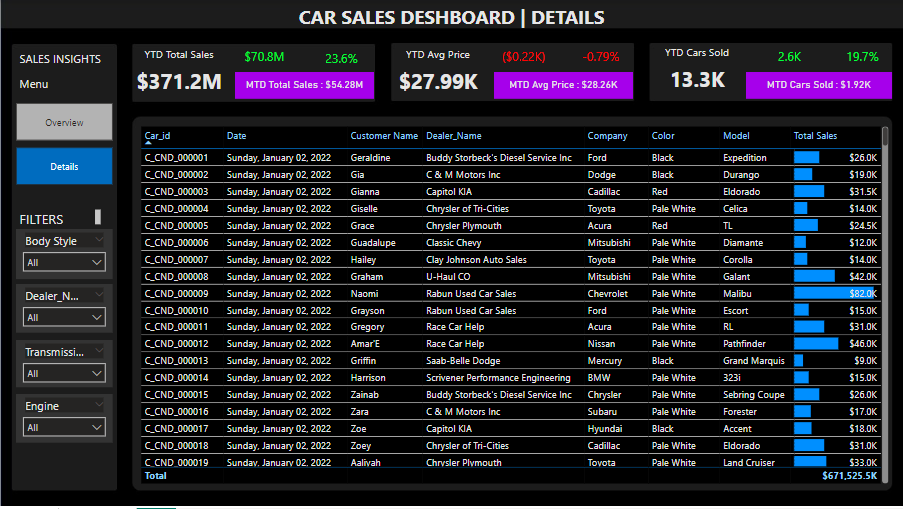

This screenshot's page, from the dashboard's own definition file:
{"tool":"powerbi","page":{"name":"Details","canvas":[1280,720],"ordinal":1},"visuals":[{"type":"card","title":"YTD Total Sales","fields":{"Values":["car_data.YTD Total Sales"]},"box":[174.3,66.6,158.7,76.5],"z":0},{"type":"card","title":"YTD Total Sales","fields":{"Values":["car_data.Cars Sales Diff"]},"box":[1067.2,60.9,103.5,41.1],"z":1000},{"type":"card","title":"YTD Total Sales","fields":{"Values":["car_data.YOY Sales Growth"]},"box":[432.3,63.8,103.5,41.1],"z":2000},{"type":"card","fields":{"Values":["car_data.MTD KPI"]},"box":[333.1,102,197,38.3],"z":3000},{"type":"card","title":"YTD Avg Price","fields":{"Values":["car_data.YTD Avg Price"]},"box":[541.4,66.6,158.7,76.5],"z":4000},{"type":"card","title":"YTD Total Sales","fields":{"Values":["car_data.Avg Price Diff"]},"box":[690.2,60.9,103.5,41.1],"z":5000},{"type":"card","title":"YTD Total Sales","fields":{"Values":["car_data.YoY Avg Price Growth"]},"box":[799.4,60.9,103.5,41.1],"z":6000},{"type":"card","fields":{"Values":["car_data.MTD Avg Price KPI"]},"box":[700.2,102,197,38.3],"z":7000},{"type":"card","title":"YTD Cars Sold","fields":{"Values":["car_data.YTD Cars Sold"]},"box":[908.5,63.8,158.7,76.5],"z":8000},{"type":"card","title":"YTD Total Sales","fields":{"Values":["car_data.Sales Difference"]},"box":[323.1,60.9,103.5,41.1],"z":9000},{"type":"card","title":"YTD Total Sales","fields":{"Values":["car_data.YoY Car Sold Growth"]},"box":[1170.7,60.9,103.5,41.1],"z":10000},{"type":"card","fields":{"Values":["car_data.MTD Cars Sold KPI"]},"box":[1057.3,102,206.9,38.3],"z":11000},{"type":"textbox","box":[0,0,1279.8,49.6],"z":13000},{"type":"slicer","fields":{"Values":["car_data.Body Style"]},"box":[22.7,324.6,137.5,70.9],"z":14000},{"type":"slicer","fields":{"Values":["car_data.Dealer_Name"]},"box":[22.7,402.5,137.5,69.4],"z":15000},{"type":"slicer","fields":{"Values":["car_data.Engine"]},"box":[22.7,558.4,137.5,69.4],"z":16000},{"type":"slicer","fields":{"Values":["car_data.Transmission"]},"box":[22.7,481.9,137.5,66.6],"z":17000},{"type":"textbox","box":[22.7,292,124.7,32.6],"z":18000},{"type":"tableEx","fields":{"Values":["car_data.Car_id","car_data.Date","car_data.Customer Name","car_data.Dealer_Name","car_data.Company","car_data.Color","car_data.Model","car_data.Total Sales"]},"box":[194.2,174.3,1070.1,515.9],"z":19000},{"type":"textbox","box":[22.7,66.6,137.5,35.4],"z":20000},{"type":"textbox","box":[22.7,102,109.1,38.3],"z":20001},{"type":"pageNavigator","box":[22.7,146,137.5,116.2],"z":20002}]}

Visuals, with their boxes in screenshot pixels (x1, y1, x2, y2), scaled from the page's 1280x720 canvas onto the 903x509 screenshot:
"YTD Total Sales" card: [123, 47, 235, 101]
"YTD Total Sales" card: [753, 43, 826, 72]
"YTD Total Sales" card: [305, 45, 378, 74]
card - car_data.MTD KPI: [235, 72, 374, 99]
"YTD Avg Price" card: [382, 47, 494, 101]
"YTD Total Sales" card: [487, 43, 560, 72]
"YTD Total Sales" card: [564, 43, 637, 72]
card - car_data.MTD Avg Price KPI: [494, 72, 633, 99]
"YTD Cars Sold" card: [641, 45, 753, 99]
"YTD Total Sales" card: [228, 43, 301, 72]
"YTD Total Sales" card: [826, 43, 899, 72]
card - car_data.MTD Cars Sold KPI: [746, 72, 892, 99]
textbox: [0, 0, 902, 35]
slicer - car_data.Body Style: [16, 229, 113, 280]
slicer - car_data.Dealer_Name: [16, 285, 113, 334]
slicer - car_data.Engine: [16, 395, 113, 444]
slicer - car_data.Transmission: [16, 341, 113, 388]
textbox: [16, 206, 104, 229]
tableEx - car_data.Car_id x car_data.Date: [137, 123, 892, 488]
textbox: [16, 47, 113, 72]
textbox: [16, 72, 93, 99]
pageNavigator: [16, 103, 113, 185]
